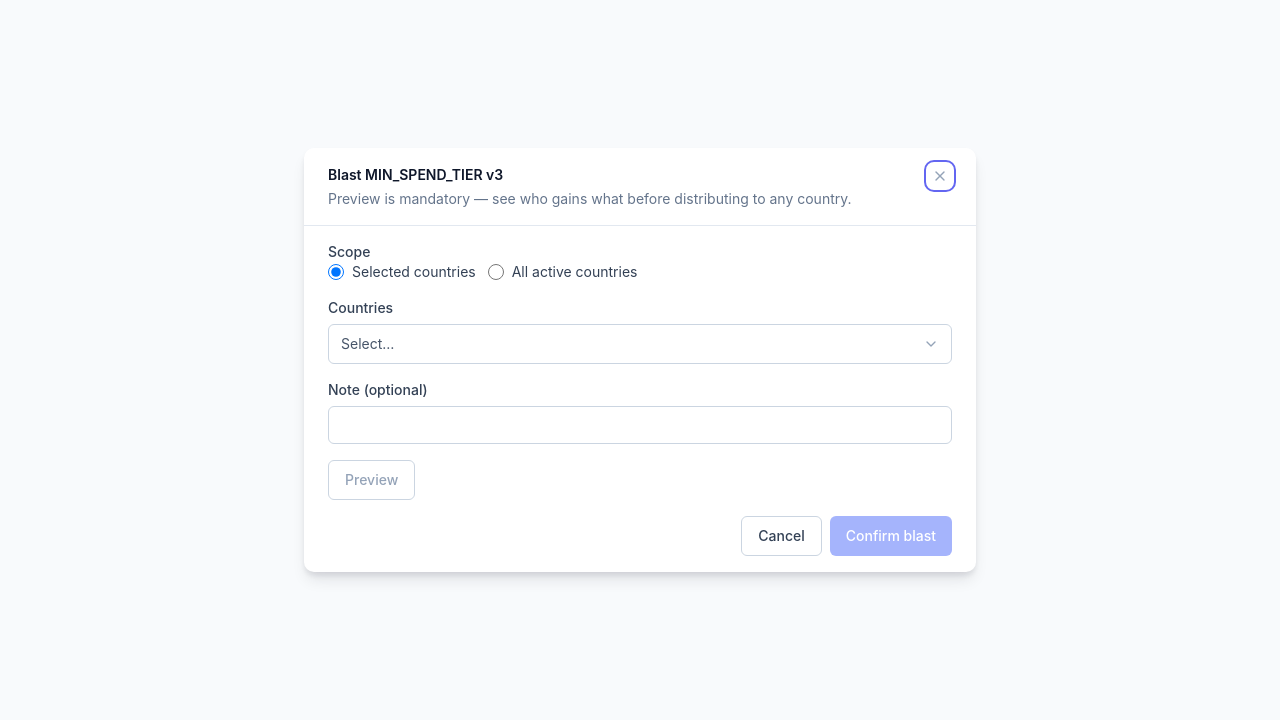
Test: BlastDialog › a preview failure surfaces the ApiError message
This screenshot has width=1280, height=720.
Click the radio button labelled "All active countries" at (496,272), box [488, 264, 504, 280]
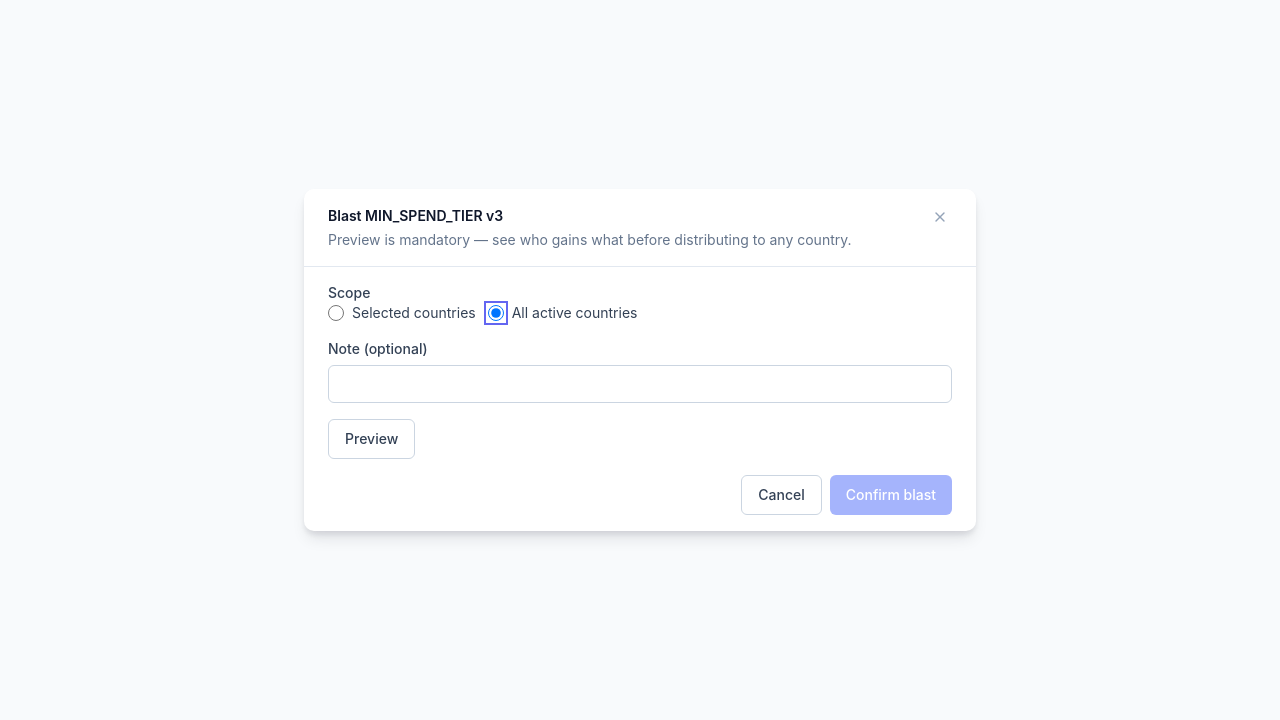
Click the button "Preview" at (372,439), box [328, 419, 415, 459]
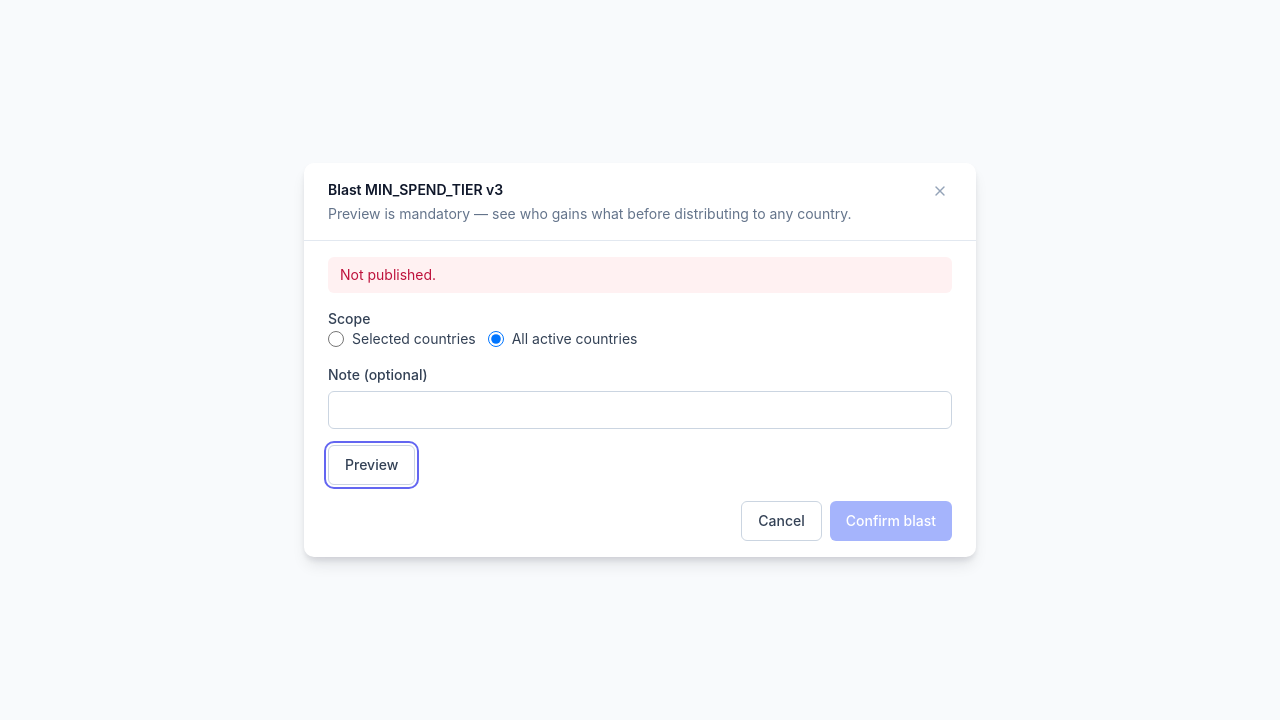
Result: the message reads "Not published." at [340, 266, 436, 283]
